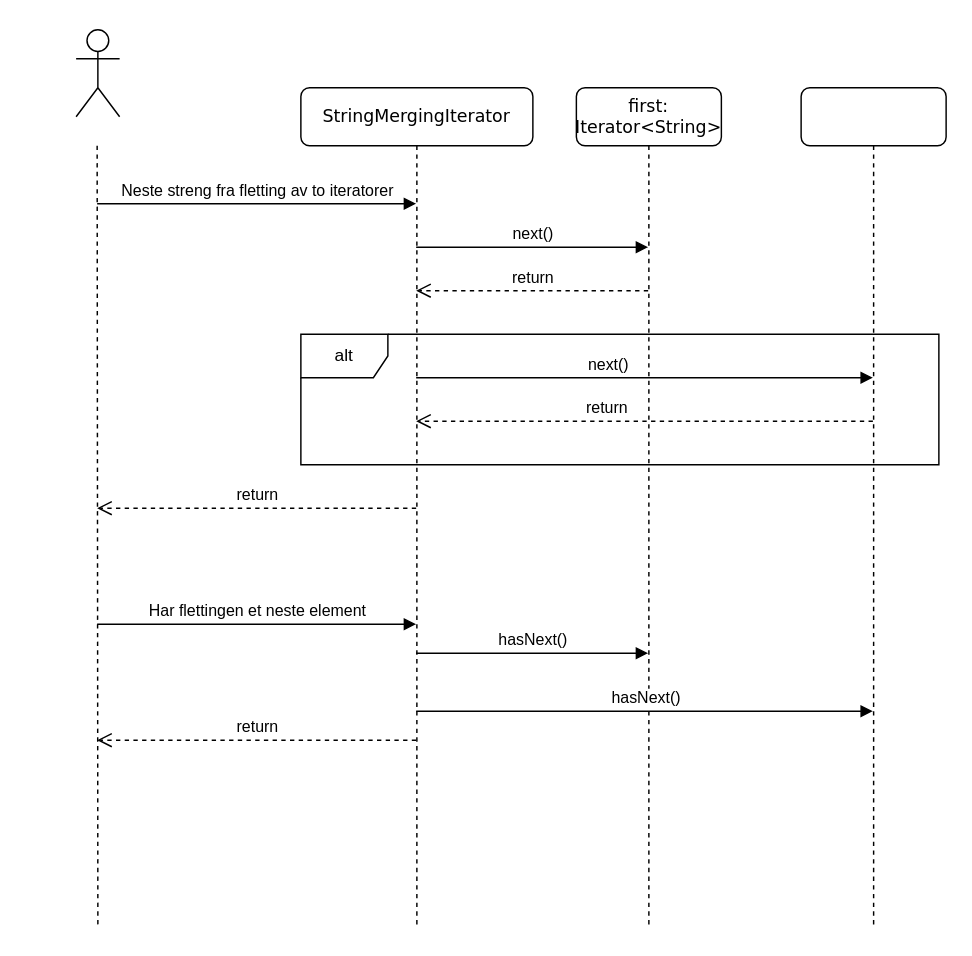
The diagram is 972 pixels wide and 956 high, and some of its shapes have lost their labels. The shapes that lost their labels are listed below. From the top down, each one's box as (x1, y1, x2, y2) in pixels, then its label:
(75, 28, 120, 117): Actor
(800, 86, 946, 929): seond: Iterator<String>
